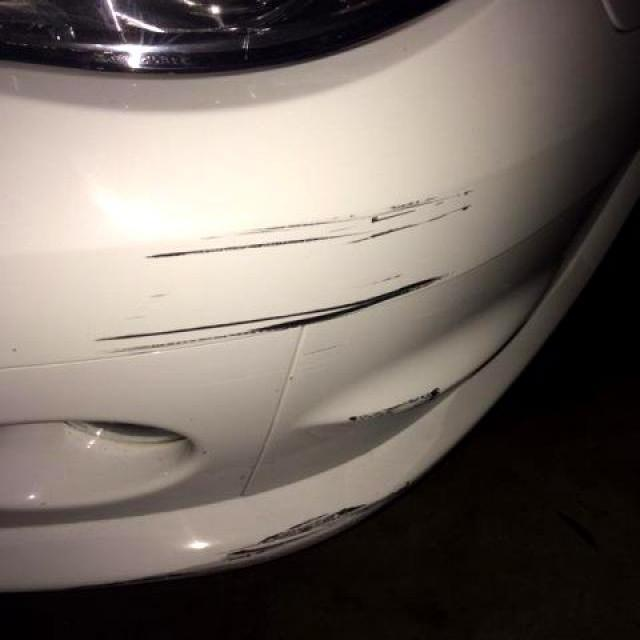minor: (269, 211, 315, 225)
moderate: (100, 276, 445, 351), (144, 192, 472, 264), (168, 499, 394, 576), (341, 387, 456, 427)
